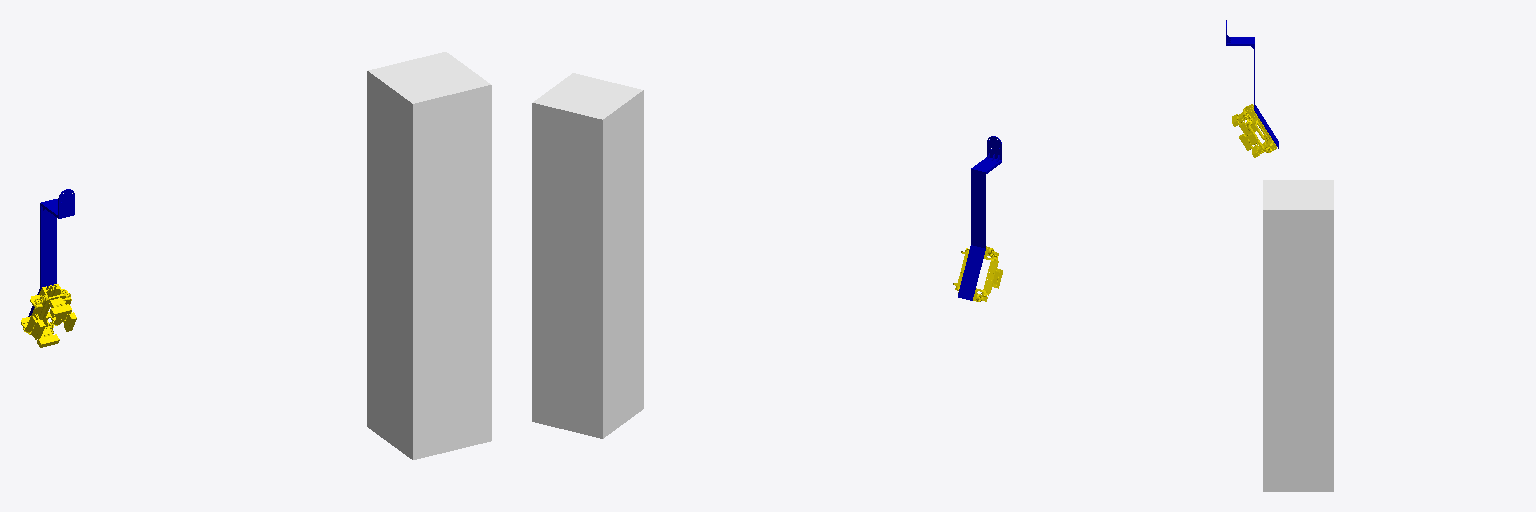
robot.urdf — S20:
<?xml version="1.0" ?>
<!-- =================================================================================== -->
<!-- |    This document was autogenerated by xacro from S20.urdf.xacro                 | -->
<!-- |    EDITING THIS FILE BY HAND IS NOT RECOMMENDED                                 | -->
<!-- =================================================================================== -->
<robot name="S20">
  <material name="black">
    <color rgba="0.0 0.0 0.0 1.0"/>
  </material>
  <material name="blue">
    <color rgba="0.0 0.0 0.8 1.0"/>
  </material>
  <material name="green">
    <color rgba="0.0 0.8 0.0 1.0"/>
  </material>
  <material name="grey">
    <color rgba="0.2 0.2 0.2 1.0"/>
  </material>
  <material name="orange">
    <color rgba="1.0 0.4235294117647059 0.0392156862745098 1.0"/>
  </material>
  <material name="brown">
    <color rgba="0.8705882352941177 0.8117647058823529 0.7647058823529411 1.0"/>
  </material>
  <material name="red">
    <color rgba="0.8 0.0 0.0 1.0"/>
  </material>
  <material name="white">
    <color rgba="1.0 1.0 1.0 1.0"/>
  </material>
  <material name="metal">
    <color rgba="0.768627450980392 0.749019607843137 0.729411764705882 1"/>
  </material>
  <material name="metal_grey">
    <color rgba="0.501960784313725 0.501960784313725 0.501960784313725 1"/>
  </material>
  <material name="metal_white">
    <color rgba="0.866666666666667 0.866666666666667 0.890196078431373 1"/>
  </material>
  <!-- ros_control plugin -->
  <gazebo>
    <plugin filename="libgazebo_ros_control.so" name="gazebo_ros_control">
      <robotSimType>gazebo_ros_control/DefaultRobotHWSim</robotSimType>
      <legacyModeNS>true</legacyModeNS>
    </plugin>
  </gazebo>
  <gazebo reference="elfin_link2">
    <visual name="visual">
      <material>
        <script>
          <uri>file://media/materials/scripts/gazebo.material</uri>
          <name>Gazebo/Grey</name>
        </script>
      </material>
    </visual>
  </gazebo>
  <gazebo reference="elfin_link4">
    <visual name="visual">
      <material>
        <script>
          <uri>file://media/materials/scripts/gazebo.material</uri>
          <name>Gazebo/Grey</name>
        </script>
      </material>
    </visual>
  </gazebo>
  <transmission name="elfin_joint1_trans">
    <type>transmission_interface/SimpleTransmission</type>
    <joint name="elfin_joint1">
      <hardwareInterface>hardware_interface/PositionJointInterface</hardwareInterface>
    </joint>
    <actuator name="elfin_joint1_motor">
      <mechanicalReduction>1</mechanicalReduction>
    </actuator>
  </transmission>
  <transmission name="elfin_joint2_trans">
    <type>transmission_interface/SimpleTransmission</type>
    <joint name="elfin_joint2">
      <hardwareInterface>hardware_interface/PositionJointInterface</hardwareInterface>
    </joint>
    <actuator name="elfin_joint2_motor">
      <mechanicalReduction>1</mechanicalReduction>
    </actuator>
  </transmission>
  <transmission name="elfin_joint3_trans">
    <type>transmission_interface/SimpleTransmission</type>
    <joint name="elfin_joint3">
      <hardwareInterface>hardware_interface/PositionJointInterface</hardwareInterface>
    </joint>
    <actuator name="elfin_joint3_motor">
      <mechanicalReduction>1</mechanicalReduction>
    </actuator>
  </transmission>
  <transmission name="elfin_joint4_trans">
    <type>transmission_interface/SimpleTransmission</type>
    <joint name="elfin_joint4">
      <hardwareInterface>hardware_interface/PositionJointInterface</hardwareInterface>
    </joint>
    <actuator name="elfin_joint4_motor">
      <mechanicalReduction>1</mechanicalReduction>
    </actuator>
  </transmission>
  <transmission name="elfin_joint5_trans">
    <type>transmission_interface/SimpleTransmission</type>
    <joint name="elfin_joint5">
      <hardwareInterface>hardware_interface/PositionJointInterface</hardwareInterface>
    </joint>
    <actuator name="elfin_joint5_motor">
      <mechanicalReduction>1</mechanicalReduction>
    </actuator>
  </transmission>
  <transmission name="elfin_joint6_trans">
    <type>transmission_interface/SimpleTransmission</type>
    <joint name="elfin_joint6">
      <hardwareInterface>hardware_interface/PositionJointInterface</hardwareInterface>
    </joint>
    <actuator name="elfin_joint6_motor">
      <mechanicalReduction>1</mechanicalReduction>
    </actuator>
  </transmission>
  <link name="world_base0">
    <visual>
      <origin rpy="0 0 0" xyz="0 0 0.05"/>
      <geometry>
        <box size="0.1 0.1 0.1"/>
      </geometry>
      <material name="">
        <color rgba="1 1 1 1"/>
      </material>
    </visual>
  </link>
  <joint name="world_base0" type="prismatic">
    <origin rpy="0 0 0" xyz="0 0 0"/>
    <parent link="world_base0"/>
    <child link="world_base1"/>
    <axis xyz="1 0 0"/>
    <limit lower="-5" upper="5"/>
  </joint>
  <link name="world_base1">
    <visual>
      <origin rpy="0 0 0" xyz="0 0 0.05"/>
      <geometry>
        <box size="0.1 0.1 0.1"/>
      </geometry>
      <material name="">
        <color rgba="1 1 1 1"/>
      </material>
    </visual>
  </link>
  <joint name="world_base1" type="prismatic">
    <origin rpy="0 0 0" xyz="0 0 0"/>
    <parent link="world_base1"/>
    <child link="world_base2"/>
    <axis xyz="0 1 0"/>
    <limit lower="-5" upper="5"/>
  </joint>
  <link name="world_base2">
    <visual>
      <origin rpy="0 0 0" xyz="0 0 0.65"/>
      <geometry>
        <box size="0.3 0.3 1.3"/>
      </geometry>
      <material name="">
        <color rgba="1 1 1 1"/>
      </material>
    </visual>
  </link>
  <joint name="world_base2" type="fixed">
    <origin rpy="0 0 0" xyz="0 0 1.3"/>
    <parent link="world_base2"/>
    <child link="elfin_base_link"/>
  </joint>
  <link name="elfin_base_link"/>
  <joint name="elfin_base_joint" type="fixed">
    <origin rpy="0 0 0" xyz="0 0 0"/>
    <parent link="elfin_base_link"/>
    <child link="elfin_base"/>
  </joint>
  <link name="elfin_base">
    <inertial>
      <origin rpy="0 0 0" xyz="-0.00131650768656017 3.86349405459754E-05 0.0343213199540785"/>
      <mass value="2.32181468230125"/>
      <inertia ixx="0.00741739022505177" ixy="-9.4225231258528E-05" ixz="-5.45619950886553E-05" iyy="0.00699483778046143" iyz="1.30022773204213E-06" izz="0.0123390065438587"/>
    </inertial>
    <visual>
      <origin rpy="0 0 0" xyz="0 0 0"/>
      <geometry>
        <mesh filename="package://elfin_description/meshes/S20/elfin_base.STL"/>
      </geometry>
      <material name="">
        <color rgba="0.752941176470588 0.752941176470588 0.752941176470588 1"/>
      </material>
    </visual>
    <collision>
      <origin rpy="0 0 0" xyz="0 0 0"/>
      <geometry>
        <mesh filename="package://elfin_description/meshes/S20/elfin_base.STL"/>
      </geometry>
    </collision>
  </link>
  <link name="elfin_link1">
    <inertial>
      <origin rpy="0 0 0" xyz="-1.0792519167212E-07 -0.0224399626110038 0.00175002240516534"/>
      <mass value="6.93455742496729"/>
      <inertia ixx="0.0460589183335357" ixy="5.43718136375216E-07" ixz="2.96738634298801E-07" iyy="0.0375916708812216" iyz="-0.000245581780149179" izz="0.0394268304468804"/>
    </inertial>
    <visual>
      <origin rpy="0 0 0" xyz="0 0 0"/>
      <geometry>
        <mesh filename="package://elfin_description/meshes/S20/elfin_link1.STL"/>
      </geometry>
      <material name="">
        <color rgba="0.898039215686275 0.917647058823529 0.929411764705882 1"/>
      </material>
    </visual>
    <collision>
      <origin rpy="0 0 0" xyz="0 0 0"/>
      <geometry>
        <mesh filename="package://elfin_description/meshes/S20/elfin_link1.STL"/>
      </geometry>
    </collision>
  </link>
  <joint name="elfin_joint1" type="revolute">
    <origin rpy="0 0 0" xyz="0 0 0.171"/>
    <parent link="elfin_base"/>
    <child link="elfin_link1"/>
    <axis xyz="0 0 1"/>
    <limit effort="200" lower="-6.28" upper="6.28" velocity="1.57"/>
  </joint>
  <link name="elfin_link2">
    <inertial>
      <origin rpy="0 0 0" xyz="-0.370229694350317 9.38128437405483E-07 0.000899041883029139"/>
      <mass value="18.8395085758056"/>
      <inertia ixx="0.0687507132351259" ixy="-5.05507420279161E-07" ixz="-6.41343868263508E-05" iyy="0.411200291693132" iyz="-1.80729528146994E-07" izz="0.40138597350588"/>
    </inertial>
    <visual>
      <origin rpy="0 0 0" xyz="0 0 0"/>
      <geometry>
        <mesh filename="package://elfin_description/meshes/S20/elfin_link2.STL"/>
      </geometry>
      <material name="">
        <color rgba="0.752941176470588 0.752941176470588 0.752941176470588 1"/>
      </material>
    </visual>
    <collision>
      <origin rpy="0 0 0" xyz="0 0 0"/>
      <geometry>
        <mesh filename="package://elfin_description/meshes/S20/elfin_link2.STL"/>
      </geometry>
    </collision>
  </link>
  <joint name="elfin_joint2" type="revolute">
    <origin rpy="1.5708 0 0" xyz="0 -0.2295 0"/>
    <parent link="elfin_link1"/>
    <child link="elfin_link2"/>
    <axis xyz="0 0 1"/>
    <limit effort="200" lower="-3.3158" upper="0.1745" velocity="1.57"/>
  </joint>
  <link name="elfin_link3">
    <inertial>
      <origin rpy="0 0 0" xyz="0.310973076601113 -4.7405306624615E-09 0.0109938899740937"/>
      <mass value="7.53508270364931"/>
      <inertia ixx="0.0133872719937165" ixy="1.91460600478011E-07" ixz="0.00152175061957157" iyy="0.11837455186459" iyz="-2.26041817837737E-08" izz="0.116582348081593"/>
    </inertial>
    <visual>
      <origin rpy="0 0 0" xyz="0 0 0"/>
      <geometry>
        <mesh filename="package://elfin_description/meshes/S20/elfin_link3.STL"/>
      </geometry>
      <material name="">
        <color rgba="0.752941176470588 0.752941176470588 0.752941176470588 1"/>
      </material>
    </visual>
    <collision>
      <origin rpy="0 0 0" xyz="0 0 0"/>
      <geometry>
        <mesh filename="package://elfin_description/meshes/S20/elfin_link3.STL"/>
      </geometry>
    </collision>
  </link>
  <joint name="elfin_joint3" type="revolute">
    <origin rpy="0 0 3.1416" xyz="-0.85 0 -0.1885"/>
    <parent link="elfin_link2"/>
    <child link="elfin_link3"/>
    <axis xyz="0 0 1"/>
    <limit effort="200" lower="-2.9319" upper="2.9319" velocity="1.57"/>
  </joint>
  <link name="elfin_link4">
    <inertial>
      <origin rpy="0 0 0" xyz="8.5204157129759E-07 -0.00559612992738279 0.124499710924349"/>
      <mass value="1.26777180180805"/>
      <inertia ixx="0.00300888445161096" ixy="1.64612435809042E-08" ixz="3.62281943568331E-08" iyy="0.00214465218602862" iyz="9.35786831203314E-05" izz="0.00239761638151984"/>
    </inertial>
    <visual>
      <origin rpy="0 0 0" xyz="0 0 0"/>
      <geometry>
        <mesh filename="package://elfin_description/meshes/S20/elfin_link4.STL"/>
      </geometry>
      <material name="">
        <color rgba="0.898039215686275 0.917647058823529 0.929411764705882 1"/>
      </material>
    </visual>
    <collision>
      <origin rpy="0 0 0" xyz="0 0 0"/>
      <geometry>
        <mesh filename="package://elfin_description/meshes/S20/elfin_link4.STL"/>
      </geometry>
    </collision>
  </link>
  <joint name="elfin_joint4" type="revolute">
    <origin rpy="0 0 0" xyz="0.712 0 0"/>
    <parent link="elfin_link3"/>
    <child link="elfin_link4"/>
    <axis xyz="0 0 1"/>
    <limit effort="104" lower="-6.28" upper="6.28" velocity="1.57"/>
  </joint>
  <link name="elfin_link5">
    <inertial>
      <origin rpy="0 0 0" xyz="-1.58900480728974E-06 0.00559613044782842 0.124499711309393"/>
      <mass value="1.26777180180803"/>
      <inertia ixx="0.00300888445161093" ixy="1.64612435696446E-08" ixz="-3.62281943491141E-08" iyy="0.00214465218602857" iyz="-9.35786831203246E-05" izz="0.00239761638151982"/>
    </inertial>
    <visual>
      <origin rpy="0 0 0" xyz="0 0 0"/>
      <geometry>
        <mesh filename="package://elfin_description/meshes/S20/elfin_link5.STL"/>
      </geometry>
      <material name="">
        <color rgba="0.752941176470588 0.752941176470588 0.752941176470588 1"/>
      </material>
    </visual>
    <collision>
      <origin rpy="0 0 0" xyz="0 0 0"/>
      <geometry>
        <mesh filename="package://elfin_description/meshes/S20/elfin_link5.STL"/>
      </geometry>
    </collision>
  </link>
  <joint name="elfin_joint5" type="revolute">
    <origin rpy="-1.5708 0 0" xyz="0 0 0.138"/>
    <parent link="elfin_link4"/>
    <child link="elfin_link5"/>
    <axis xyz="0 0 1"/>
    <limit effort="34" lower="-6.28" upper="6.28" velocity="1.57"/>
  </joint>
  <link name="elfin_link6">
    <inertial>
      <origin rpy="0 0 0" xyz="-7.47115137089693E-07 0.000102435646244473 0.0904183015693256"/>
      <mass value="0.468079508708449"/>
      <inertia ixx="0.000412770805513074" ixy="1.60636639637837E-08" ixz="-3.02343967687703E-08" iyy="0.000415704740293176" iyz="1.46595766333508E-07" izz="0.000530952415351683"/>
    </inertial>
    <visual>
      <origin rpy="0 0 0" xyz="0 0 0"/>
      <geometry>
        <mesh filename="package://elfin_description/meshes/S20/elfin_link6.STL"/>
      </geometry>
      <material name="">
        <color rgba="0.752941176470588 0.752941176470588 0.752941176470588 1"/>
      </material>
    </visual>
    <collision>
      <origin rpy="0 0 0" xyz="0 0 0"/>
      <geometry>
        <mesh filename="package://elfin_description/meshes/S20/elfin_link6.STL"/>
      </geometry>
    </collision>
  </link>
  <joint name="elfin_joint6" type="revolute">
    <origin rpy="1.5708 0 0" xyz="0 0 0.138"/>
    <parent link="elfin_link5"/>
    <child link="elfin_link6"/>
    <axis xyz="0 0 1"/>
    <limit effort="34" lower="-6.28" upper="6.28" velocity="1.57"/>
  </joint>
  <link name="elfin_end_link">
  </link>
  <joint name="elfin_end_joint" type="fixed">
    <origin rpy="0 0 3.1416" xyz="0 0 0.1257"/>
    <parent link="elfin_link6"/>
    <child link="elfin_end_link"/>
  </joint>
  <link name="ee_link">
    <visual>
      <origin rpy="0 0 0" xyz="0 0 0"/>
      <geometry>
        <mesh filename="package://elfin_description/meshes/S20/ee_link.STL"/>
      </geometry>
      <material name="">
        <color rgba="0 0 0.8 1"/>
      </material>
    </visual>
    <collision>
      <origin rpy="0 0 0" xyz="0 0 0"/>
      <geometry>
        <mesh filename="package://elfin_description/meshes/S20/ee_link.STL"/>
      </geometry>
    </collision>
  </link>
  <joint name="ee_link_joint" type="fixed">
    <origin rpy="-1.5707 0 1.5707" xyz="0.035 -0.155 0"/>
    <parent link="elfin_end_link"/>
    <child link="ee_link"/>
  </joint>
  <link name="gripper_link0">
    <visual>
      <origin rpy="0 0 0" xyz="0 0 0"/>
      <geometry>
        <mesh filename="package://elfin_description/meshes/S20/gripper_link.STL"/>
      </geometry>
      <material name="">
        <color rgba="0 0 0.8 1"/>
      </material>
    </visual>
    <collision>
      <origin rpy="0 0 0" xyz="0 0 0"/>
      <geometry>
        <mesh filename="package://elfin_description/meshes/S20/gripper_link.STL"/>
      </geometry>
    </collision>
  </link>
  <joint name="gripper_link_joint0" type="fixed">
    <origin rpy="1.5707 0 0" xyz="-0.1 0.124 0"/>
    <parent link="ee_link"/>
    <child link="gripper_link0"/>
  </joint>
  <link name="gripper_link1">
    <visual>
      <origin rpy="0 0 0" xyz="0 0 0"/>
      <geometry>
        <mesh filename="package://elfin_description/meshes/S20/gripper_link.STL"/>
      </geometry>
      <material name="">
        <color rgba="0 0 0.8 1"/>
      </material>
    </visual>
    <collision>
      <origin rpy="0 0 0" xyz="0 0 0"/>
      <geometry>
        <mesh filename="package://elfin_description/meshes/S20/gripper_link.STL"/>
      </geometry>
    </collision>
  </link>
  <joint name="gripper_link_joint1" type="fixed">
    <origin rpy="0 0 0" xyz="-0.1 0 0"/>
    <parent link="gripper_link0"/>
    <child link="gripper_link1"/>
  </joint>
  <link name="gripper_link_ee1">
    <visual>
      <origin rpy="0 0 0" xyz="0 0 0"/>
      <geometry>
        <mesh filename="package://elfin_description/meshes/S20/gripper_link.STL"/>
      </geometry>
      <material name="">
        <color rgba="0 0 0.8 1"/>
      </material>
    </visual>
    <collision>
      <origin rpy="0 0 0" xyz="0 0 0"/>
      <geometry>
        <mesh filename="package://elfin_description/meshes/S20/gripper_link.STL"/>
      </geometry>
    </collision>
  </link>
  <joint name="gripper_link_joint_ee1" type="fixed">
    <origin rpy="0 -0.5235 0" xyz="-0.0866 0 -0.05"/>
    <parent link="gripper_link1"/>
    <child link="gripper_link_ee1"/>
  </joint>
  <link name="gripper_link_ee2">
    <visual>
      <origin rpy="0 0 0" xyz="0 0 0"/>
      <geometry>
        <mesh filename="package://elfin_description/meshes/S20/gripper_link.STL"/>
      </geometry>
      <material name="">
        <color rgba="0 0 0.8 1"/>
      </material>
    </visual>
    <collision>
      <origin rpy="0 0 0" xyz="0 0 0"/>
      <geometry>
        <mesh filename="package://elfin_description/meshes/S20/gripper_link.STL"/>
      </geometry>
    </collision>
  </link>
  <joint name="gripper_link_joint_ee2" type="fixed">
    <origin rpy="0 0 0" xyz="-0.1 0 0"/>
    <parent link="gripper_link_ee1"/>
    <child link="gripper_link_ee2"/>
  </joint>
  <link name="needle_gripper">
    <visual>
      <origin rpy="0 0 0" xyz="0 0 0"/>
      <geometry>
        <mesh filename="package://elfin_description/meshes/S20/needle_gripper.STL"/>
      </geometry>
      <material name="">
        <color rgba="1.0 0.92 0.016 1"/>
      </material>
    </visual>
    <collision>
      <origin rpy="0 0 0" xyz="0 0 0"/>
      <geometry>
        <mesh filename="package://elfin_description/meshes/S20/needle_gripper.STL"/>
      </geometry>
    </collision>
  </link>
  <joint name="gripper_joint" type="fixed">
    <origin rpy="-1.5708 0 0" xyz="0.106 0.0305 0.09"/>
    <parent link="gripper_link_ee2"/>
    <child link="needle_gripper"/>
  </joint>
</robot>

--- What the picture shows (computed from the rendered views, not written in the file) ---
The picture shows the robot from 3 angles, left to right: view 1: azimuth 30°, elevation 25°; view 2: azimuth 150°, elevation 25°; view 3: azimuth 270°, elevation 25°; orthographic projection.
Robot: S20 — 18 links, 17 joints (6 revolute, 2 prismatic, 9 fixed); root link world_base0; default pose: all joints at 0.
Links seen in each view (by area): view 1: world_base2, needle_gripper, ee_link; view 2: world_base2, ee_link, needle_gripper; view 3: world_base2, needle_gripper.
Link boxes in pixels (box(x1,y1,x2,y2)): world_base2: box(367, 52, 491, 459); needle_gripper: box(21, 284, 76, 347); ee_link: box(40, 189, 74, 232); world_base2: box(532, 73, 643, 438); ee_link: box(971, 136, 1001, 198); needle_gripper: box(953, 246, 1002, 301); world_base2: box(1263, 180, 1333, 491); needle_gripper: box(1232, 104, 1276, 157).
Bounding box of the posed robot: 1.78 × 0.4547 × 1.38 m (x, y, z).
6 mesh visuals loaded from 10 distinct referenced files (3 binary STL); not drawn: 7 (reference not matched to a file when rendering).
